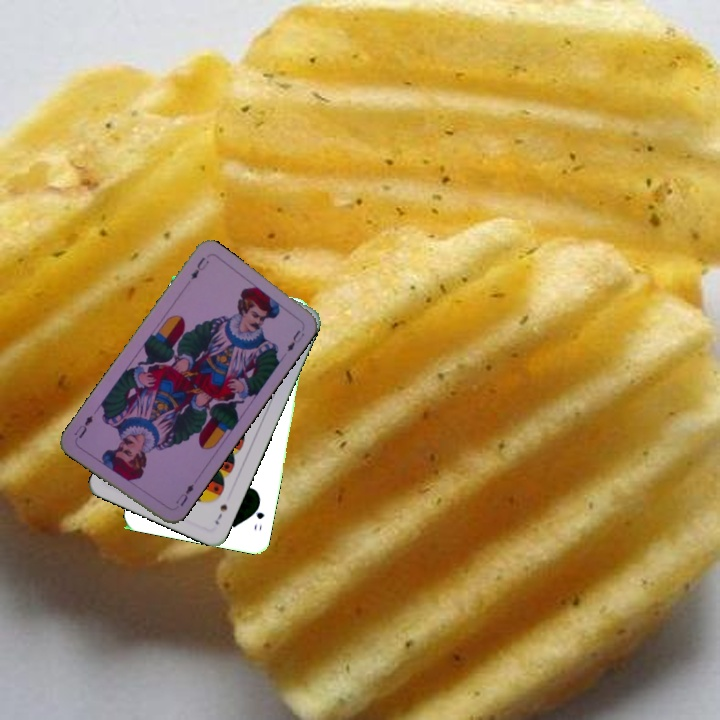EU: (187, 253, 212, 282), (172, 480, 196, 509)
GO: (250, 497, 267, 533)
S7: (211, 500, 230, 527)
